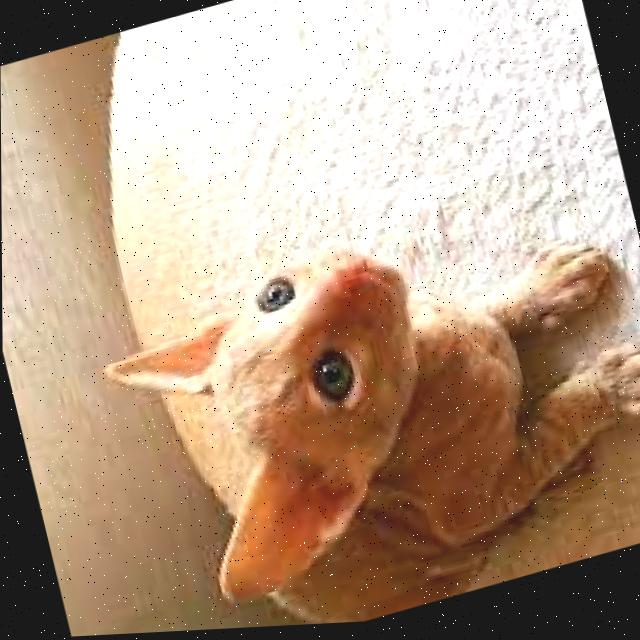Cornish Rex: (79, 166, 640, 637)
